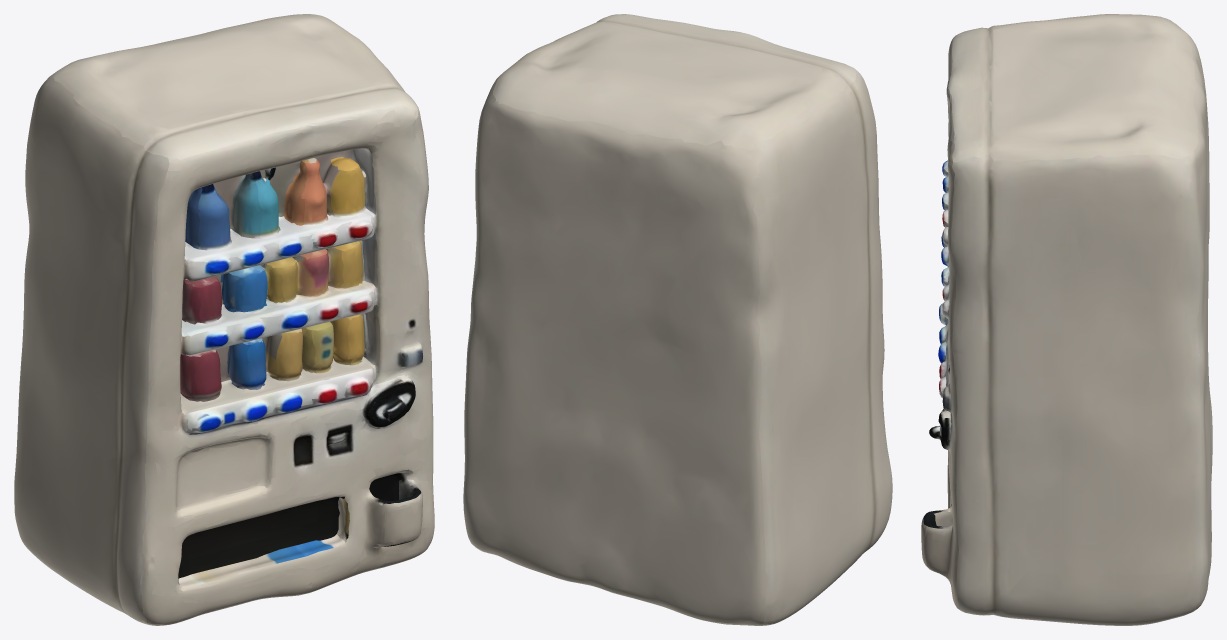
File: vending.glb
The picture shows the model from 3 angles, left to right: view 1: azimuth 30°, elevation 25°; view 2: azimuth 150°, elevation 25°; view 3: azimuth 270°, elevation 25°; orthographic projection.
Parts seen in each view (by area): view 1: tmp404yo8jm.ply; view 2: tmp404yo8jm.ply; view 3: tmp404yo8jm.ply.
Part boxes in pixels (x1=…): tmp404yo8jm.ply: x1=14, y1=14, x2=434, y2=625; tmp404yo8jm.ply: x1=463, y1=14, x2=892, y2=625; tmp404yo8jm.ply: x1=921, y1=14, x2=1212, y2=625.
Size of the model in its own units: 0.6719 by 0.9879 by 0.5335.
1 material, 1 textured.
